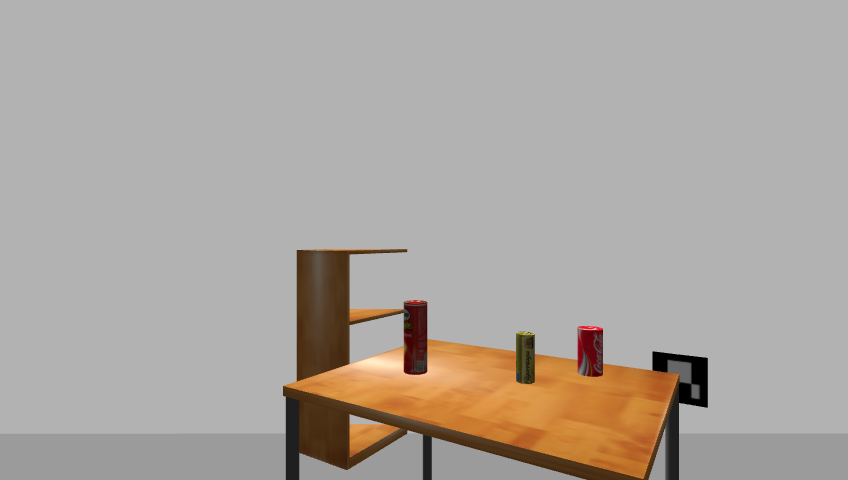aruco marker: (646, 349, 713, 410)
biscuits pack: (514, 331, 536, 385)
bookshelf: (291, 245, 412, 475)
coke can: (575, 325, 605, 378)
dinner table: (277, 341, 689, 479)
pringles can: (401, 301, 429, 377)
